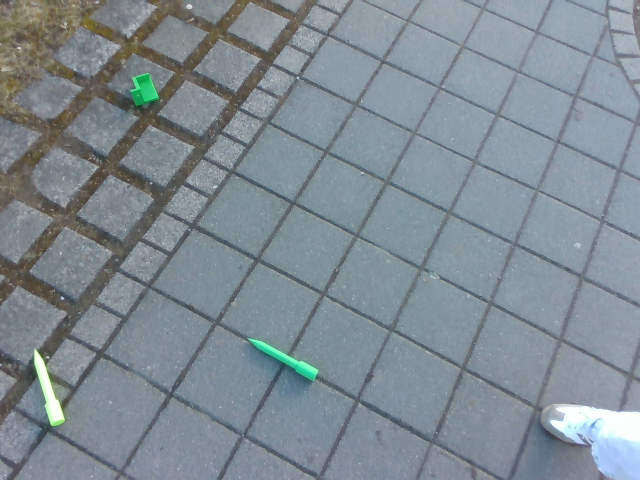Probe: (236, 328, 327, 384), (28, 345, 74, 432)
